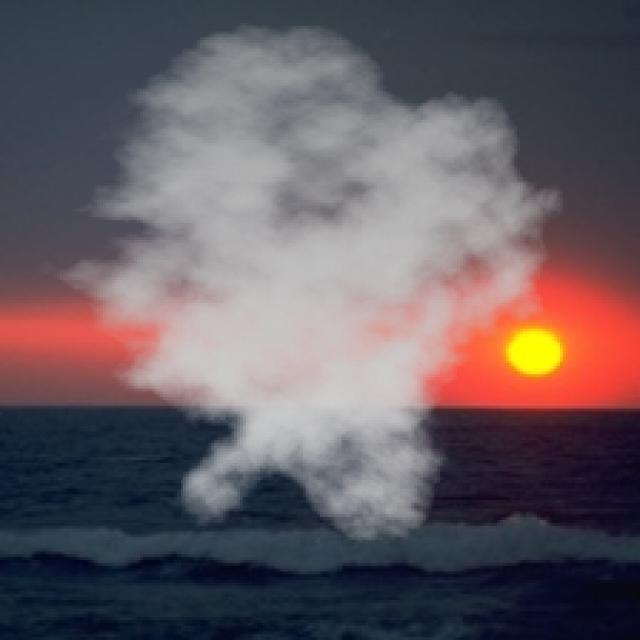Smoke: (31, 23, 578, 546)
